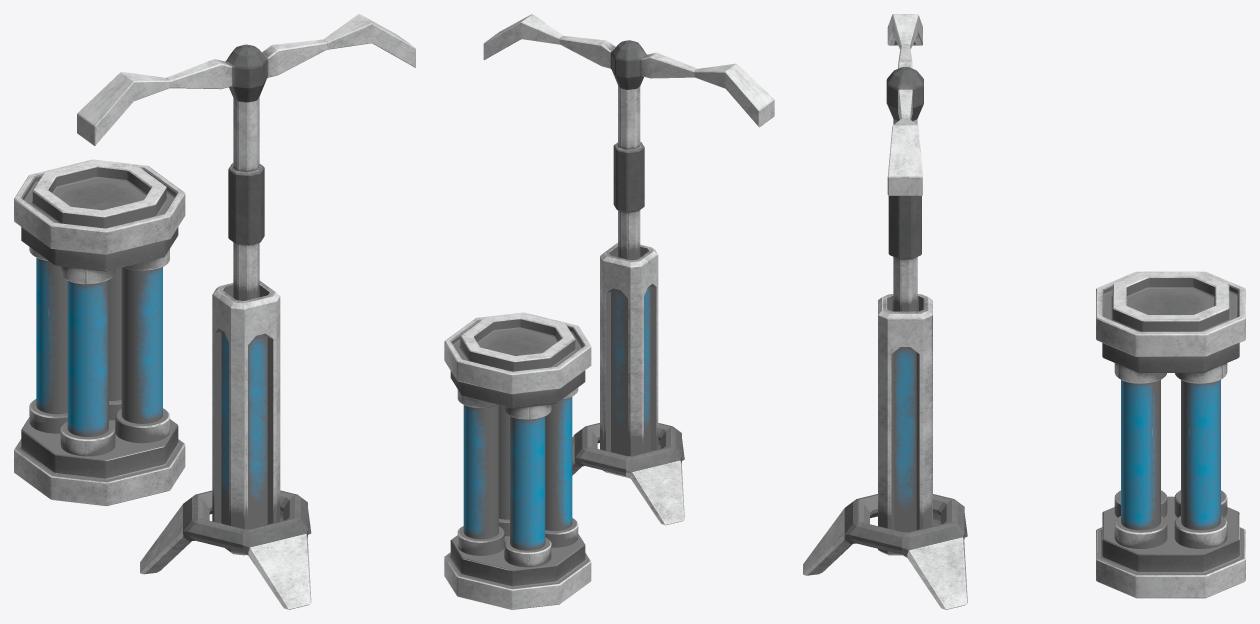
File: MayakF.fbx
The picture shows the model from 3 angles, left to right: view 1: azimuth 30°, elevation 25°; view 2: azimuth 150°, elevation 25°; view 3: azimuth 270°, elevation 25°; orthographic projection. The views are drawn at different scales.
Visible parts, largest first — view 1: Cube, Cylinder, Cube.003, Cube.001, Torus.001, Cube.002; view 2: Cube, Cylinder, Cube.003, Cube.001, Torus.001, Cube.002; view 3: Cube, Cylinder, Cube.003, Torus.001, Cube.001, Cube.002.
Boxes of the visible parts, box(x1,y1,x2,y2) form: Cube: box(14, 159, 185, 506); Cylinder: box(29, 247, 169, 456); Cube.003: box(212, 281, 280, 555); Cube.001: box(166, 39, 327, 301); Torus.001: box(140, 490, 311, 609); Cube.002: box(77, 14, 415, 145); Cube: box(444, 312, 591, 609); Cylinder: box(457, 387, 578, 567); Cube.003: box(600, 243, 658, 477); Cube.001: box(559, 36, 697, 260); Torus.001: box(572, 423, 684, 525); Cube.002: box(483, 14, 774, 127); Cube: box(1096, 271, 1245, 598); Cylinder: box(1114, 363, 1227, 548); Cube.003: box(878, 294, 932, 555); Torus.001: box(803, 494, 967, 609); Cube.001: box(886, 44, 923, 311); Cube.002: box(887, 14, 922, 195).
Bounding box in the file's own units: 1300 × 2049 × 1615.
6 materials, 6 textured.
